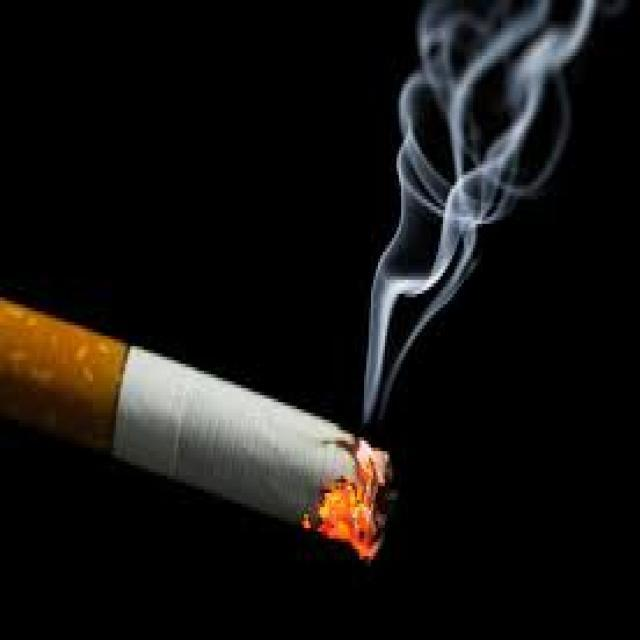rokok: (0, 287, 396, 561)
